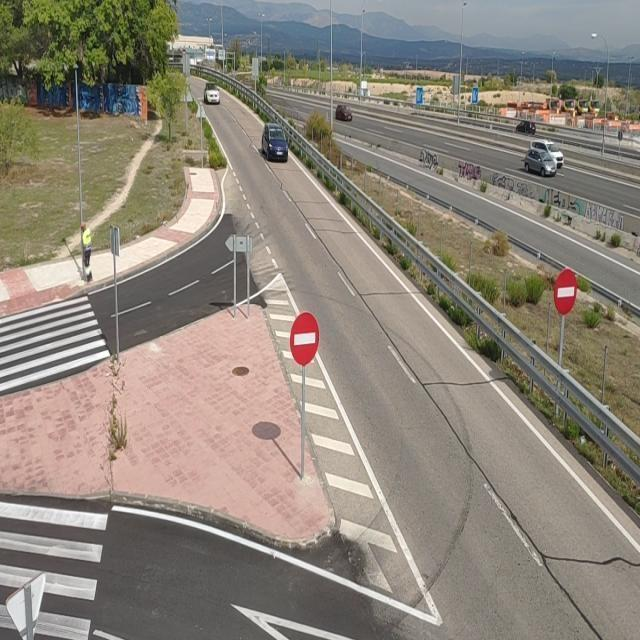Car: (249, 122, 295, 168), (327, 97, 365, 126), (522, 149, 556, 177), (201, 76, 224, 108), (510, 117, 538, 141)
Van: (531, 138, 571, 163)
